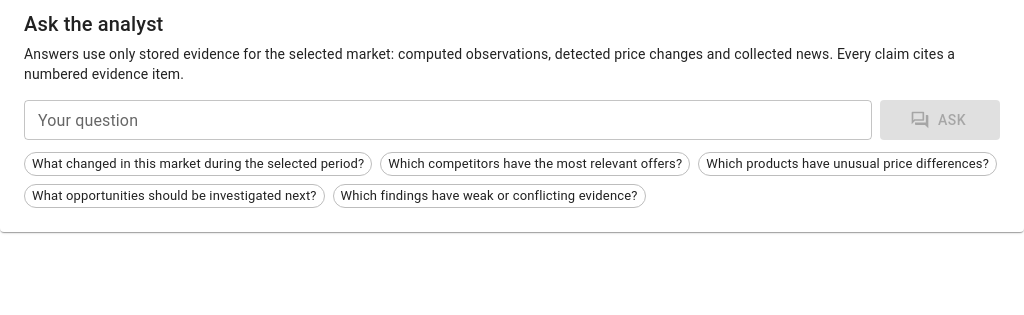
Test case: AskAnalyst › reports a failed request
The width and height of the screenshot is (1024, 315).
What coordinates should you click on to do the following:
click the button "What changed in this market during the selected period?"
I would click on:
 (198, 164)
Its box is [24, 152, 372, 176].
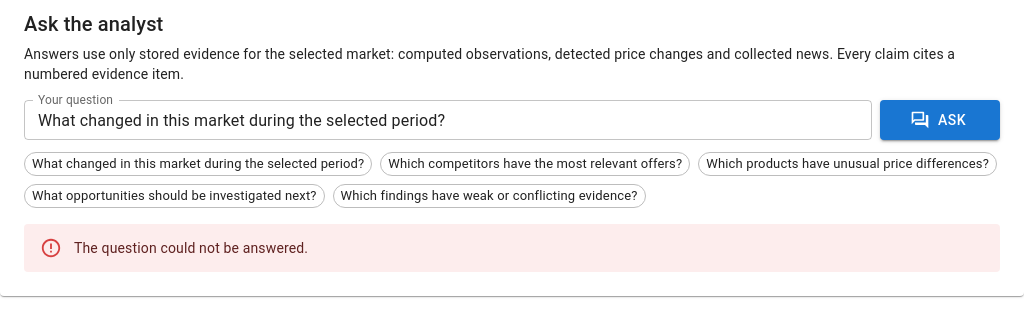
Expected: the text "The question could not be answered." is shown, [74, 240, 308, 256]
